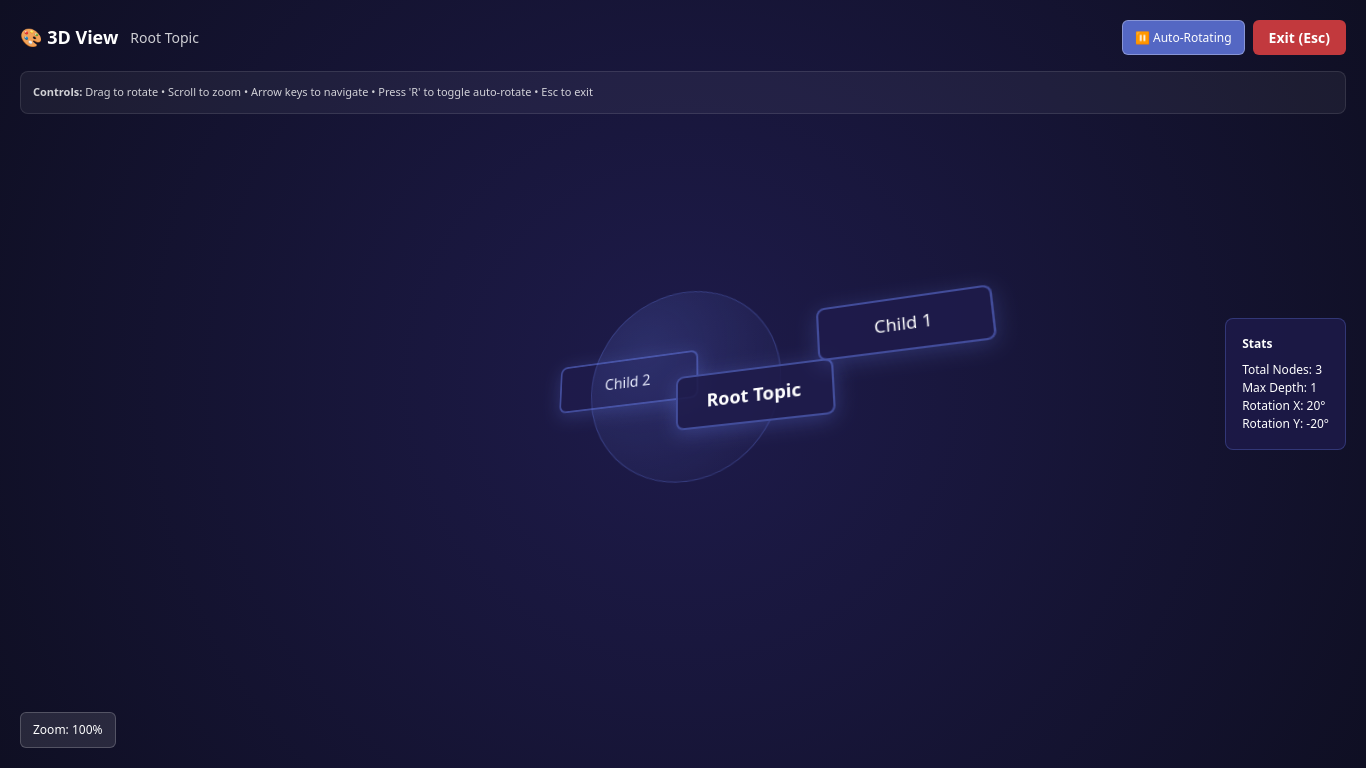
Test case: ThreeDView › should toggle auto-rotate when button is clicked
Click the button with aria-label "Pause auto-rotation".
click(1183, 38)  # box [1122,20,1245,55]
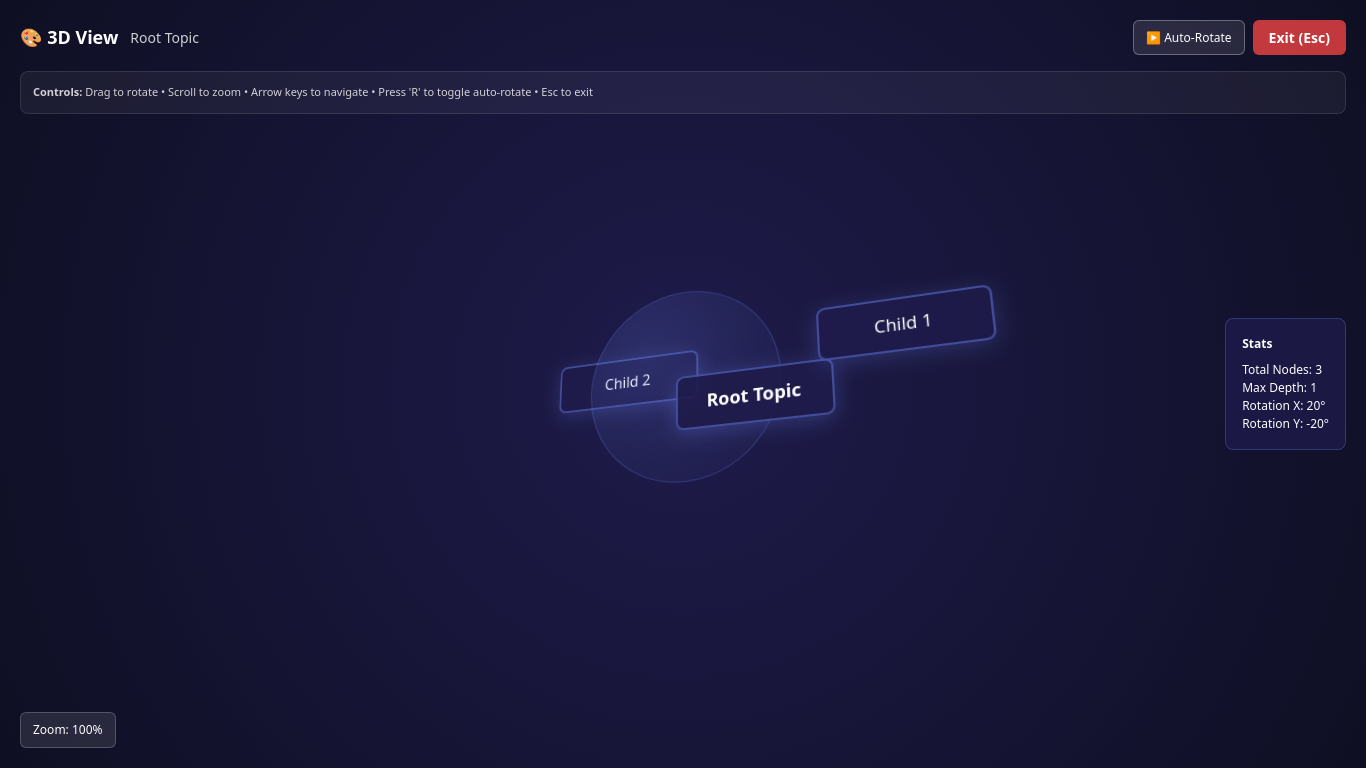
expect the button with aria-label "Start auto-rotation" is shown: met, box [1133,20,1245,55]
